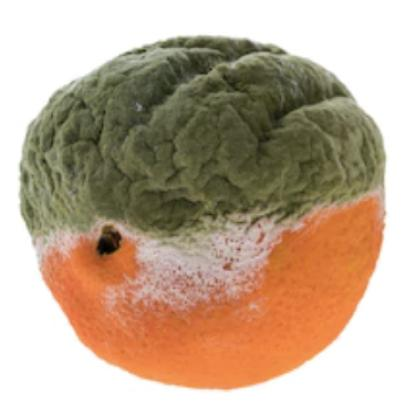rotten: (22, 36, 386, 391)
